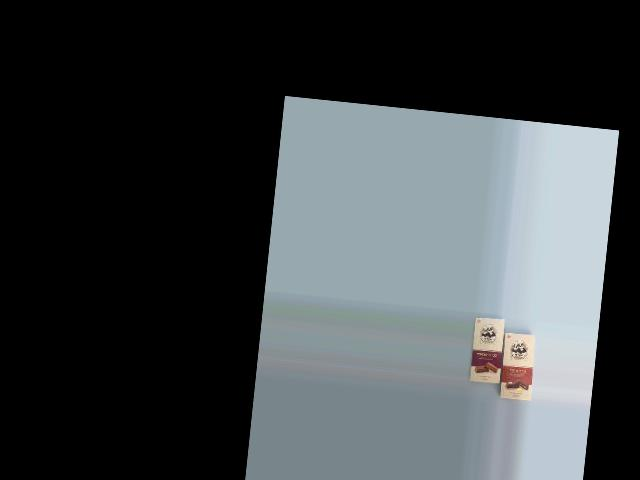chocolate: (492, 328, 538, 402)
